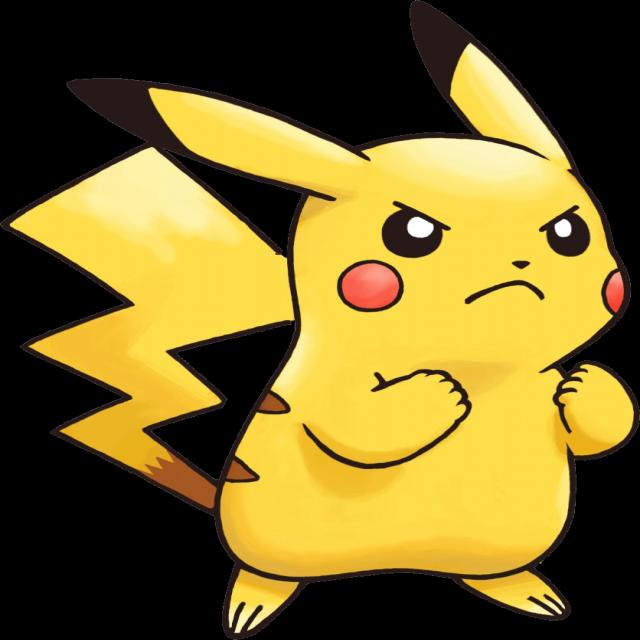Pikachu: (226, 133, 621, 591)
